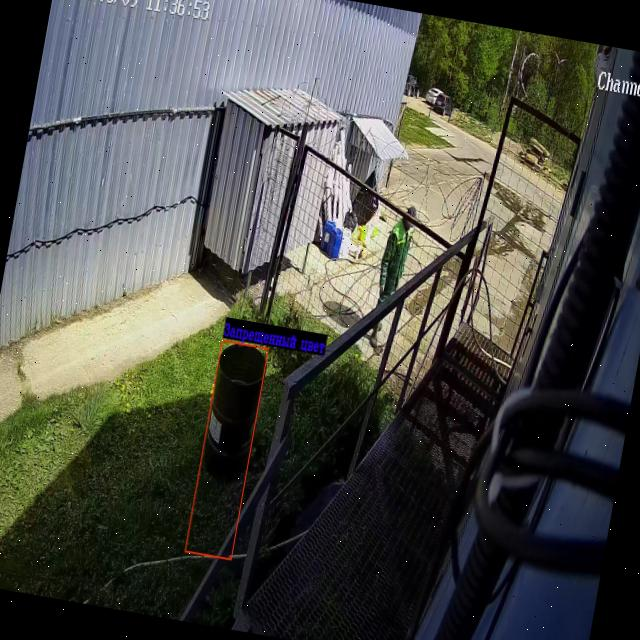Barrel: (202, 348, 264, 475)
Person: (368, 200, 419, 348)
